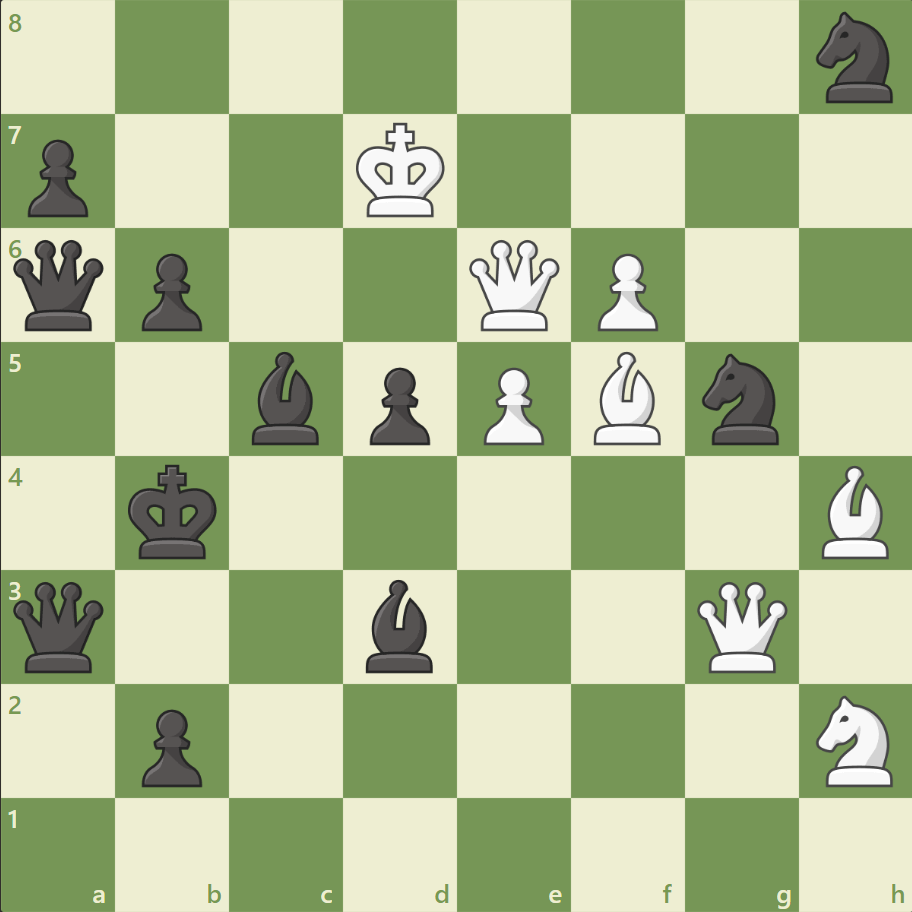B: (812, 460, 896, 563), (585, 347, 669, 449)
K: (351, 117, 451, 225)
N: (806, 688, 903, 791)
P: (474, 359, 549, 450), (588, 246, 662, 337)
Q: (691, 576, 790, 676), (464, 236, 563, 335)
b: (244, 347, 328, 449), (358, 574, 442, 676)
k: (124, 458, 224, 566)
n: (806, 7, 903, 110), (692, 348, 789, 450)
p: (20, 132, 95, 223), (133, 246, 208, 337), (133, 700, 208, 791), (361, 359, 435, 450)
q: (10, 576, 109, 676), (10, 236, 109, 335)
